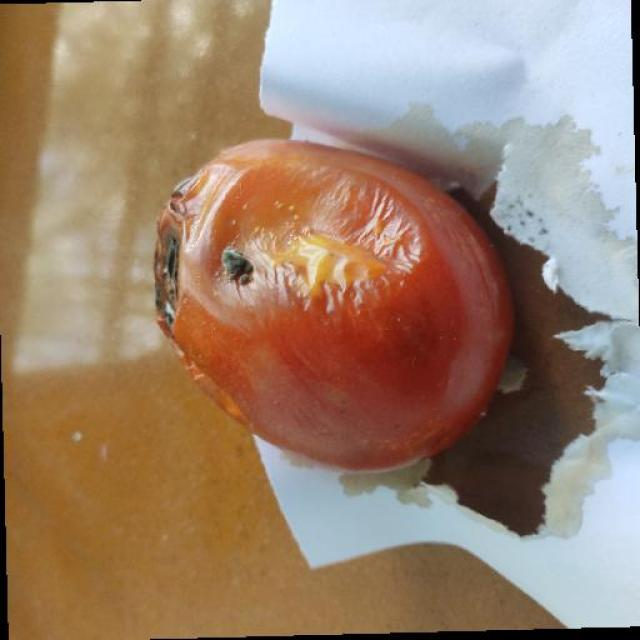Stale_tomato: (129, 128, 519, 464)
